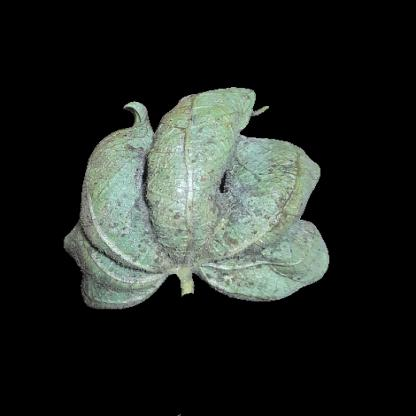curl_stage2: (191, 96, 244, 156), (151, 146, 191, 194), (97, 155, 124, 203)
sooty: (115, 208, 255, 267), (107, 206, 180, 259), (258, 213, 324, 268), (215, 170, 273, 213)
